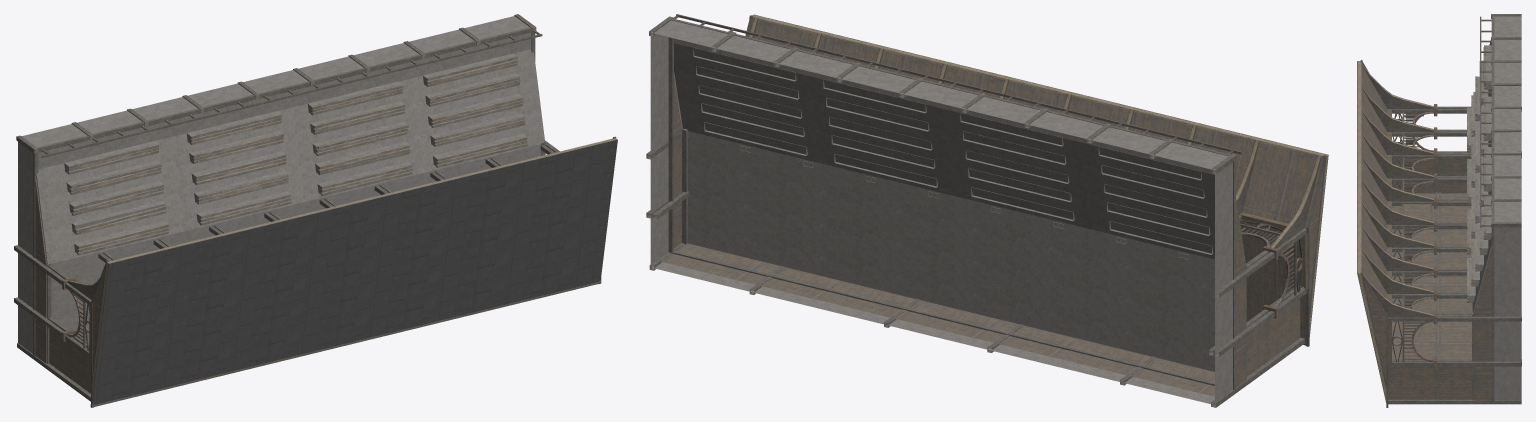
The model's file is bld_107_04_StadiumStands_02.glb.
3 renders of one model, left to right at view 1: azimuth 30°, elevation 25°; view 2: azimuth 150°, elevation 25°; view 3: azimuth 270°, elevation 25°, orthographic. The views are drawn at different scales.
Visible parts, largest first — view 1: set_0_group_0; view 2: set_0_group_0; view 3: set_0_group_0.
Part boxes in pixels (box(x1,y1,x2,y2)): set_0_group_0: box(14, 14, 617, 407); set_0_group_0: box(646, 14, 1328, 407); set_0_group_0: box(1357, 14, 1521, 407).
Bounding box in the file's own units: 27.07 × 10.81 × 8.84.
1 material, 1 textured.
